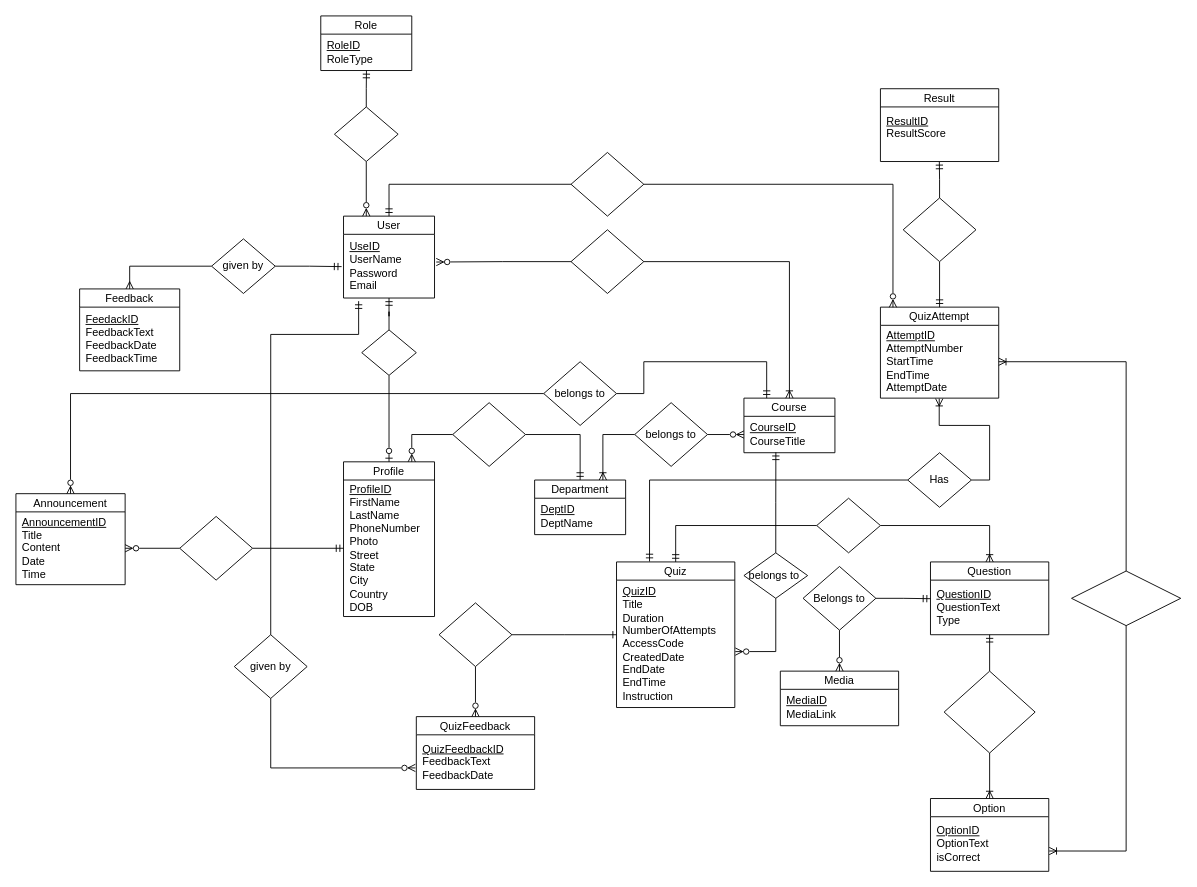
This 1197x887 diagram has some shape labels left out. Each missing label, with the centre of its shape:
"associated with" goes at (x=489, y=434).
"attempts" goes at (x=607, y=184).
"Contains" goes at (x=848, y=525).
"enrolls in" goes at (x=607, y=261).
"given for" goes at (x=475, y=634).
"has a" goes at (x=388, y=352).
"has chosen" goes at (x=1126, y=598).
"Has multiple chiose" goes at (x=989, y=711).
"has result" goes at (x=939, y=229).
"has role" goes at (x=366, y=134).
"posts" goes at (x=216, y=548).
